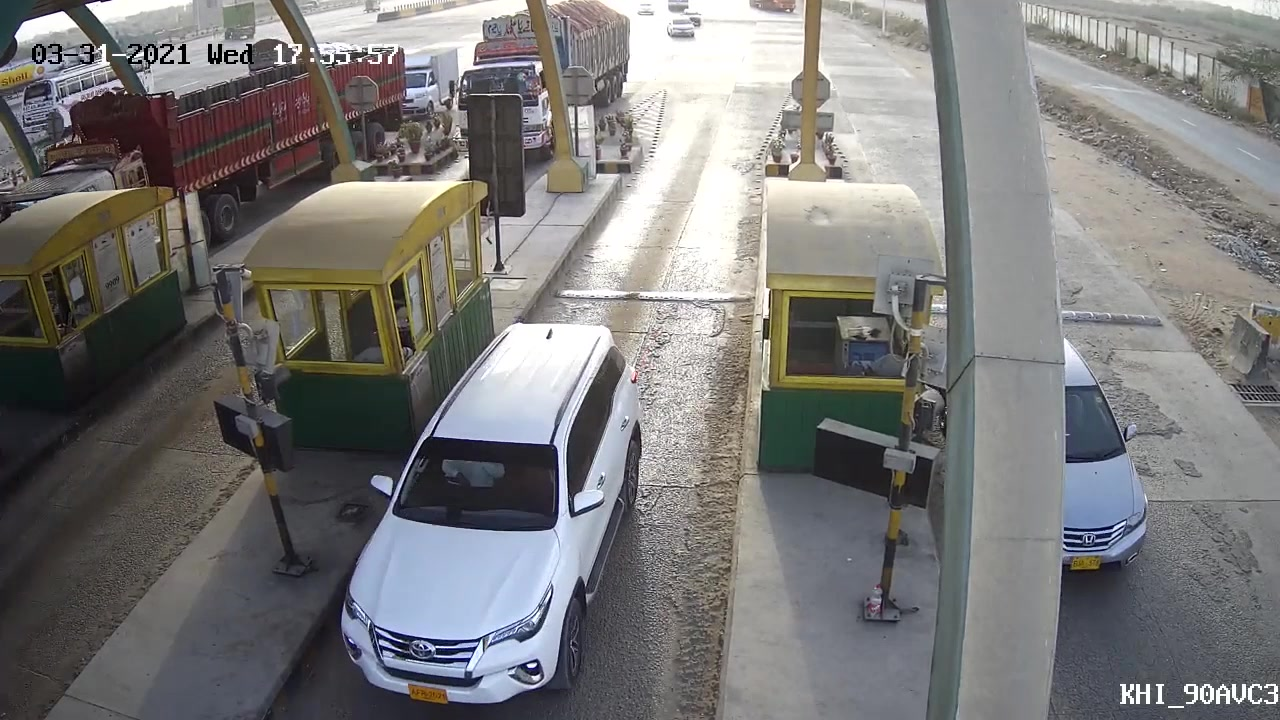F1: (334, 319, 648, 711)
